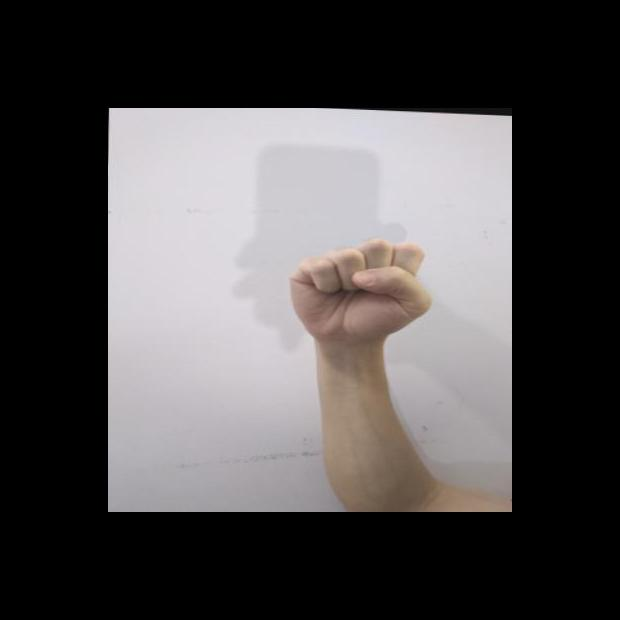R: (282, 232, 438, 350)
